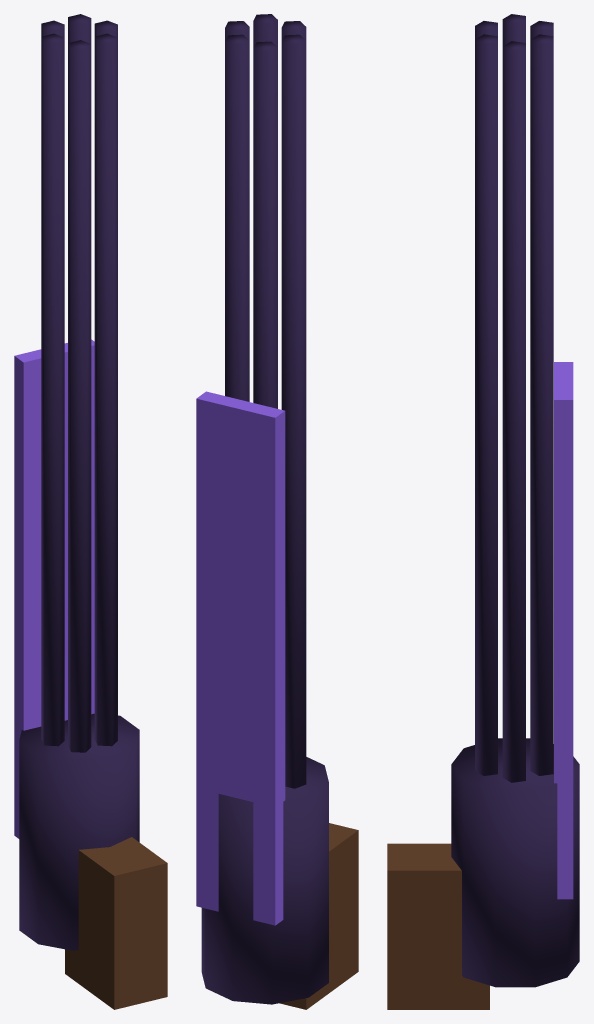
3 renders of one model, left to right at view 1: azimuth 30°, elevation 25°; view 2: azimuth 150°, elevation 25°; view 3: azimuth 270°, elevation 25°, orthographic. The views are drawn at different scales.
Parts seen in each view (by area): view 1: s_d_m_g_v0; view 2: s_d_m_g_v0; view 3: s_d_m_g_v0.
Part boxes in pixels (x1,y1,x2,y2): s_d_m_g_v0: (14, 14, 167, 1009); s_d_m_g_v0: (196, 14, 358, 1009); s_d_m_g_v0: (387, 14, 579, 1009).
Bounding box in the file's own units: 0.0951 × 0.83 × 0.15.
